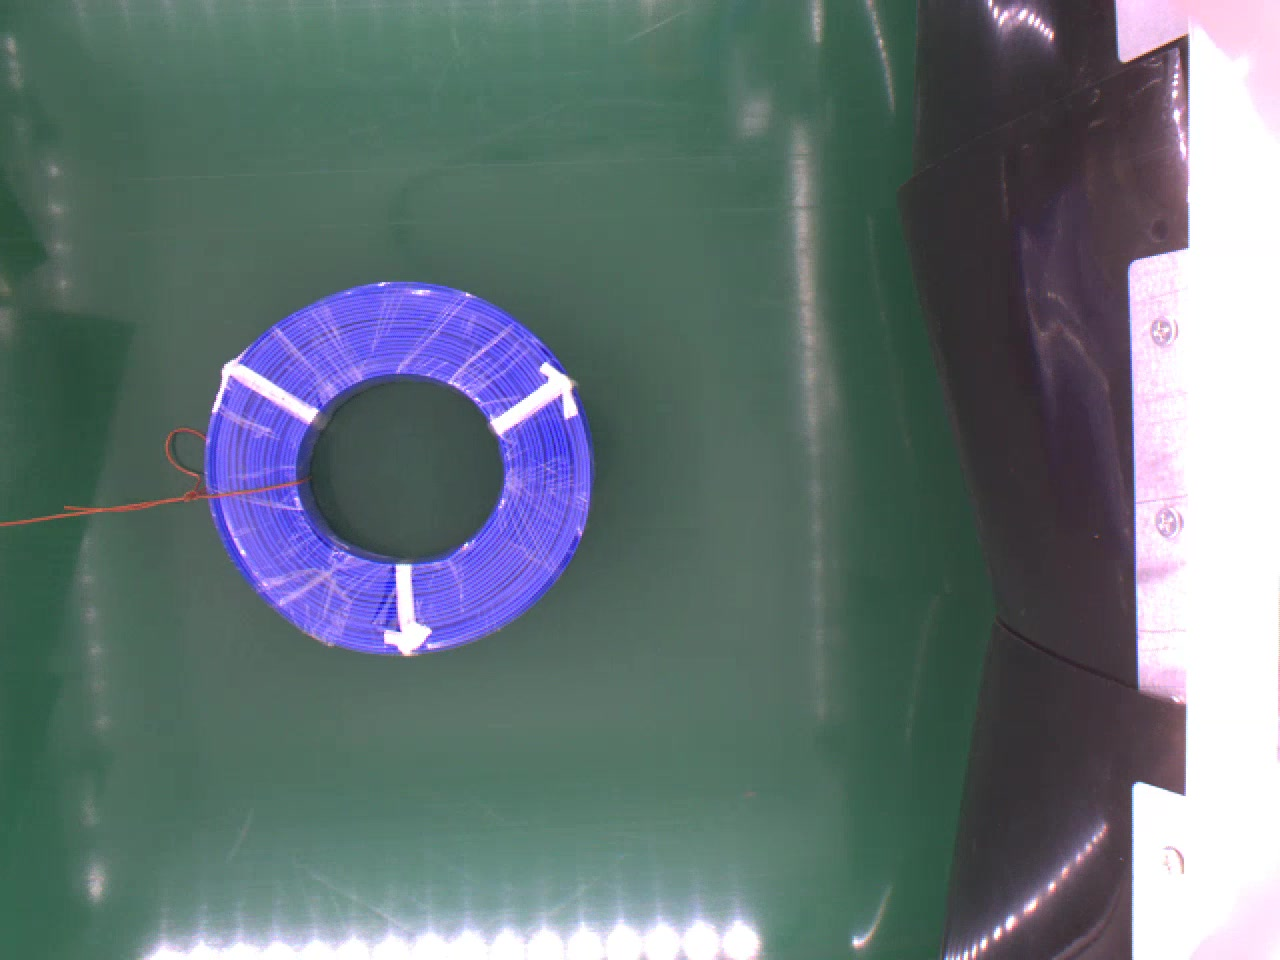blue: (200, 275, 598, 669)
